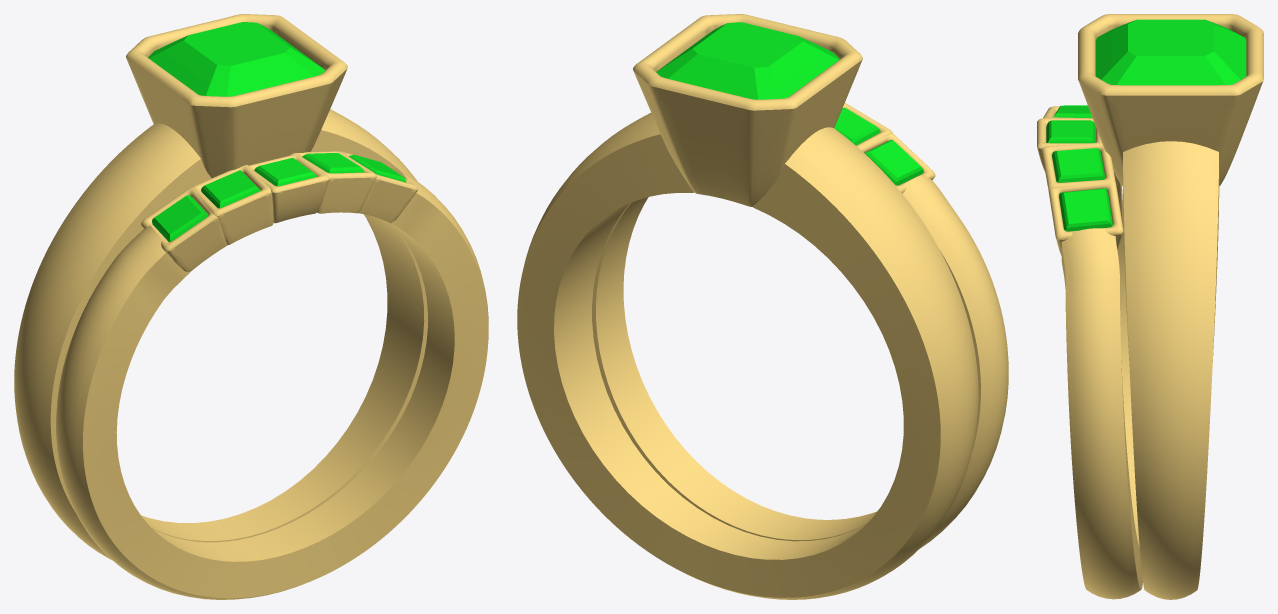
Rendered from Chris_hers_eng_wb_emerald_blender.glb.
3 views of the same model, side by side, from view 1: azimuth 30°, elevation 25°; view 2: azimuth 150°, elevation 25°; view 3: azimuth 270°, elevation 25° (orthographic). The views are drawn at different scales.
Visible parts, largest first — view 1: Chris hers eng wb YG for 3d model, Chris hers eng wb emerald for 3d model.005, Chris hers eng wb emerald for 3d model.002, Chris hers eng wb emerald for 3d model.003, Chris hers eng wb emerald for 3d model.004, Chris hers eng wb emerald for 3d model; view 2: Chris hers eng wb YG for 3d model, Chris hers eng wb emerald for 3d model.005, Chris hers eng wb emerald for 3d model.002, Chris hers eng wb emerald for 3d model.003; view 3: Chris hers eng wb YG for 3d model, Chris hers eng wb emerald for 3d model.005, Chris hers eng wb emerald for 3d model.001, Chris hers eng wb emerald for 3d model, Chris hers eng wb emerald for 3d model.004, Chris hers eng wb emerald for 3d model.003.
Boxes of the visible parts, x1,y1,x2,y2 form: Chris hers eng wb YG for 3d model: (14, 14, 488, 599); Chris hers eng wb emerald for 3d model.005: (148, 22, 325, 96); Chris hers eng wb emerald for 3d model.002: (152, 195, 208, 241); Chris hers eng wb emerald for 3d model.003: (201, 170, 260, 208); Chris hers eng wb emerald for 3d model.004: (254, 157, 316, 186); Chris hers eng wb emerald for 3d model: (302, 153, 364, 173); Chris hers eng wb YG for 3d model: (517, 14, 1008, 599); Chris hers eng wb emerald for 3d model.005: (656, 22, 839, 99); Chris hers eng wb emerald for 3d model.002: (864, 140, 923, 185); Chris hers eng wb emerald for 3d model.003: (834, 107, 880, 145); Chris hers eng wb YG for 3d model: (1037, 14, 1263, 599); Chris hers eng wb emerald for 3d model.005: (1095, 19, 1246, 85); Chris hers eng wb emerald for 3d model.001: (1059, 188, 1112, 231); Chris hers eng wb emerald for 3d model: (1052, 148, 1105, 182); Chris hers eng wb emerald for 3d model.004: (1046, 120, 1095, 143); Chris hers eng wb emerald for 3d model.003: (1054, 105, 1092, 118).
Size of the model in its own units: 20.3 by 24.03 by 9.18.
